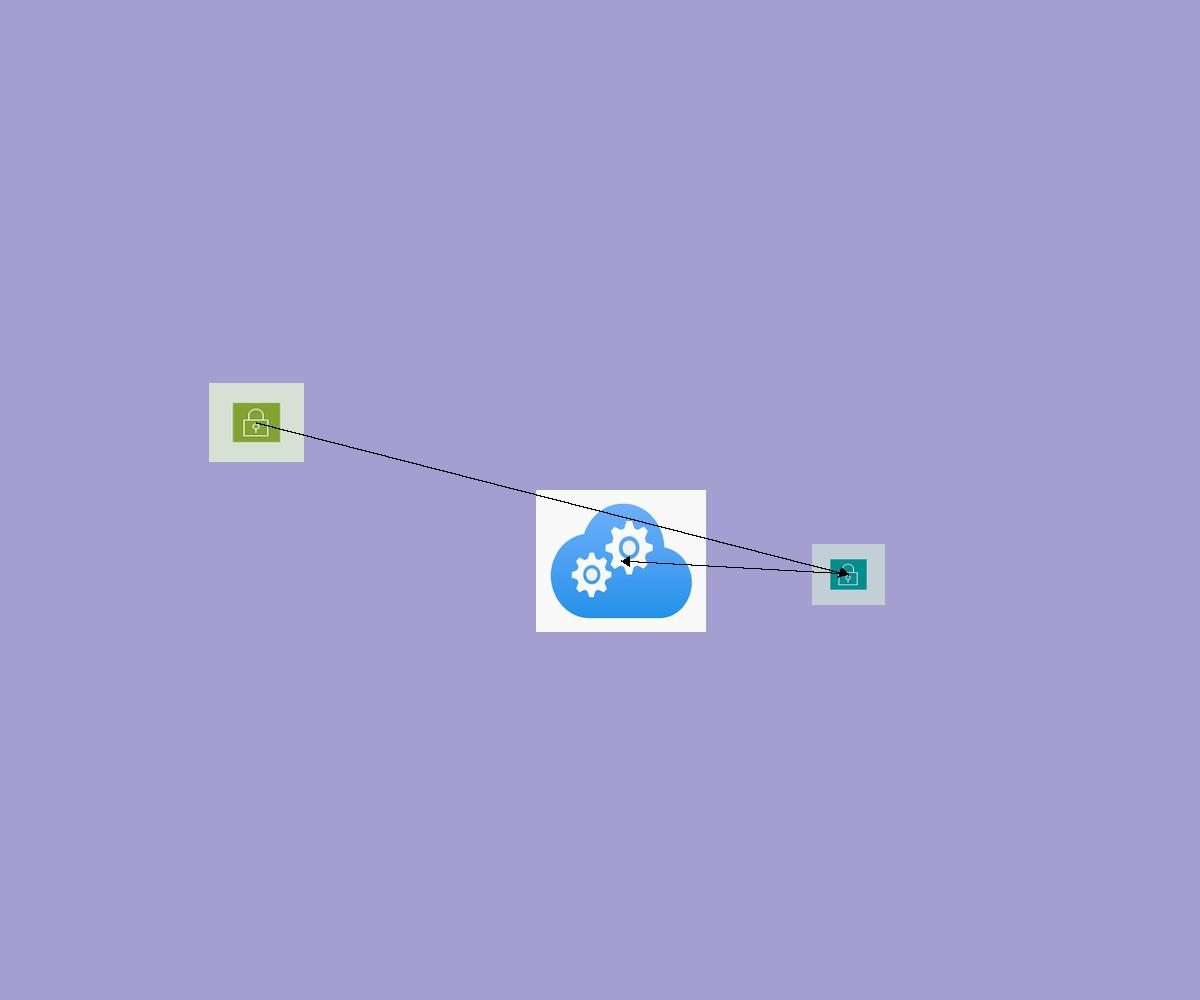AWS-Private-subnet: (812, 544, 885, 605)
AWS-Public-subnet: (209, 383, 304, 462)
Azure_cloud_services: (536, 490, 706, 632)
